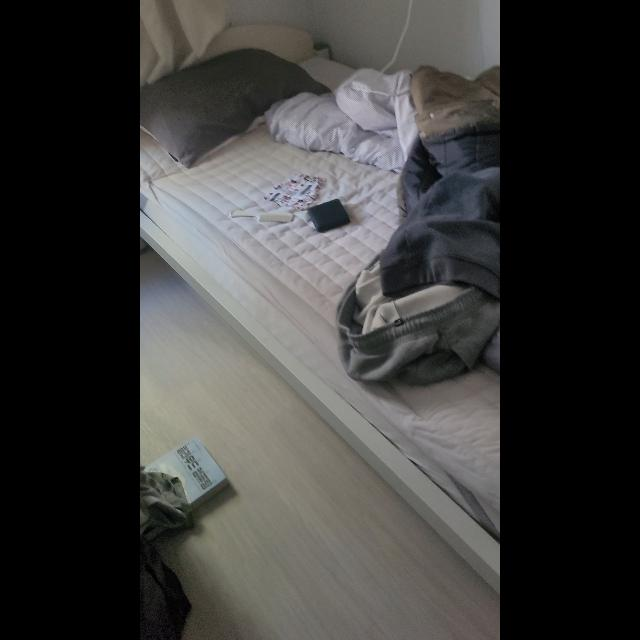COMB: (230, 209, 294, 223)
Glasses cleaning cloth: (263, 173, 325, 210)
WALLET: (306, 198, 352, 232)
